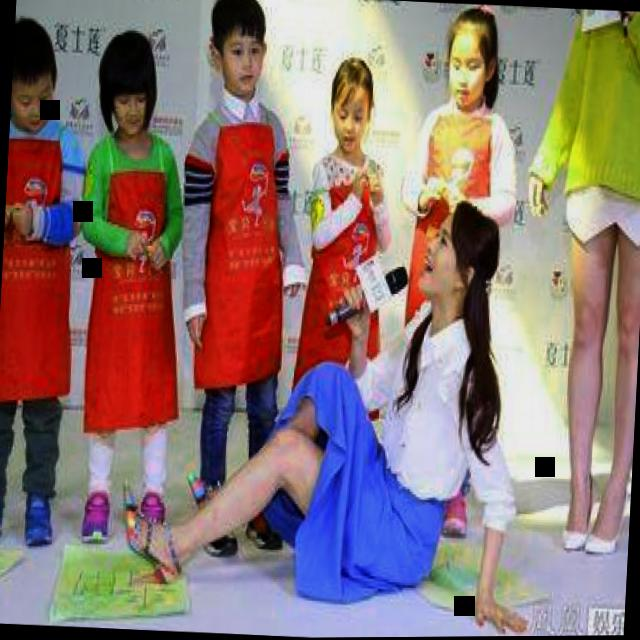Fall-Detected: (103, 169, 541, 639)
